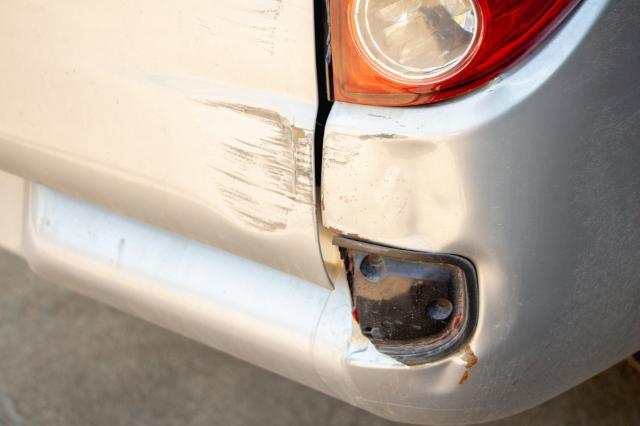dent: (348, 133, 471, 251), (411, 363, 466, 394)
scratch: (185, 95, 316, 236)
